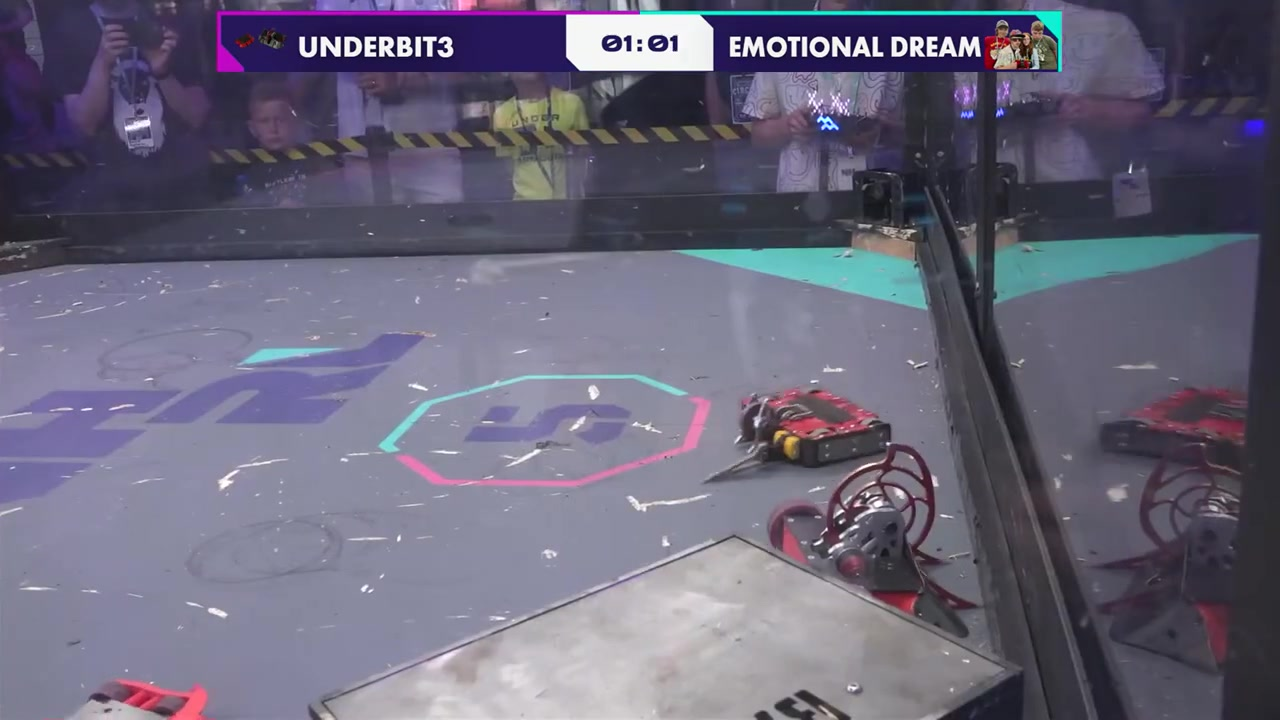combatbot: (764, 445, 975, 639), (704, 385, 897, 481), (70, 677, 207, 718)
housebot: (303, 528, 1023, 720)
